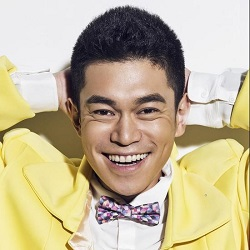unmask: (71, 77, 180, 197)
